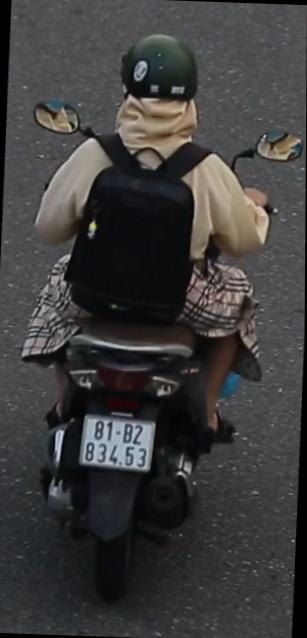LP: (78, 407, 159, 476)
helmet: (108, 34, 211, 155)
